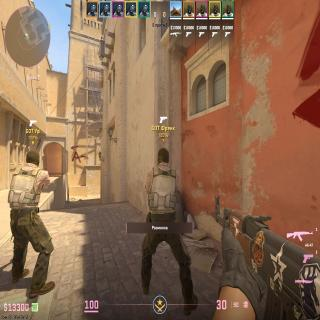T-Body: (8, 149, 49, 298), (144, 147, 180, 300)
T-Head: (26, 149, 40, 167), (158, 147, 170, 165)
